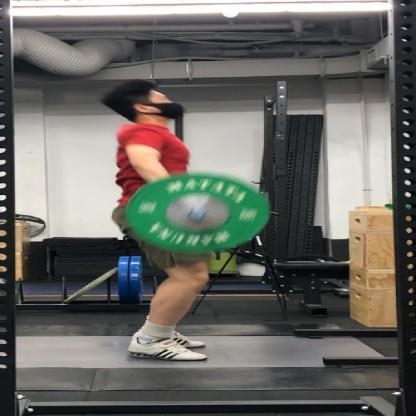barbell: (123, 171, 271, 257)
